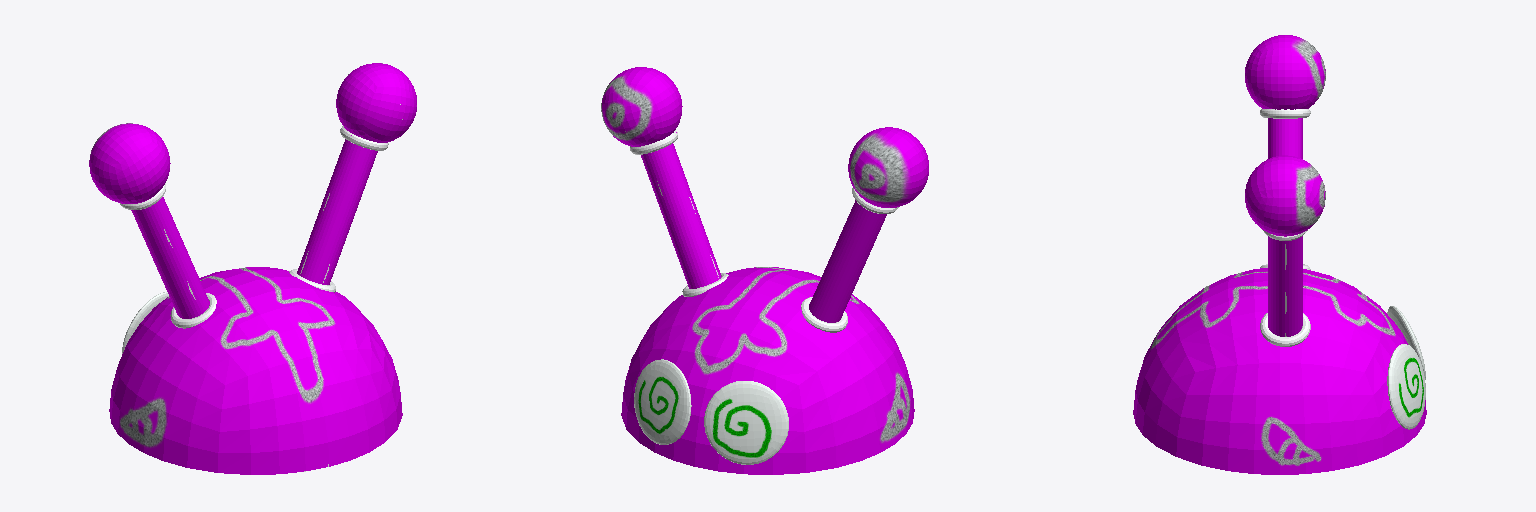
3 views of the same model, side by side, from view 1: azimuth 30°, elevation 25°; view 2: azimuth 150°, elevation 25°; view 3: azimuth 270°, elevation 25° (orthographic).
Parts seen in each view (by area): view 1: Roundcube.014_Roundcube.021; view 2: Roundcube.014_Roundcube.021; view 3: Roundcube.014_Roundcube.021.
Part boxes in pixels (x1,y1,x2,y2): Roundcube.014_Roundcube.021: (89, 63, 416, 474); Roundcube.014_Roundcube.021: (601, 67, 928, 474); Roundcube.014_Roundcube.021: (1133, 35, 1426, 474).
Bounding box in the file's own units: 2.5 × 2.36 × 2.
1 materials, 1 textured.